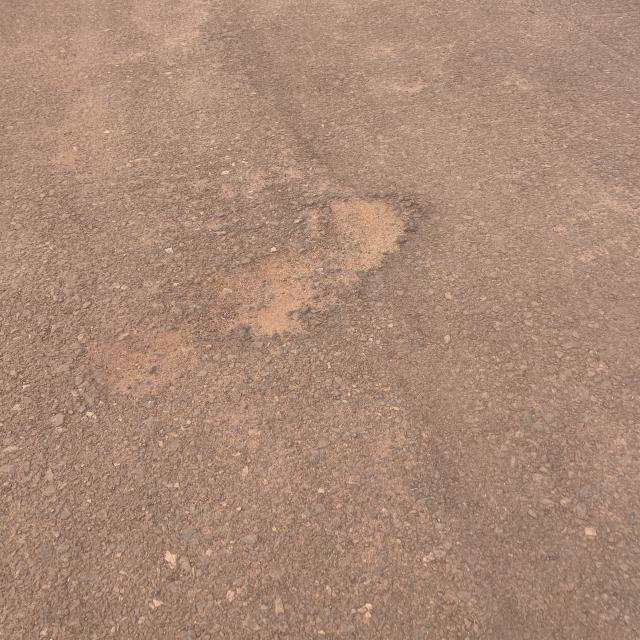D43: (59, 140, 555, 460)
